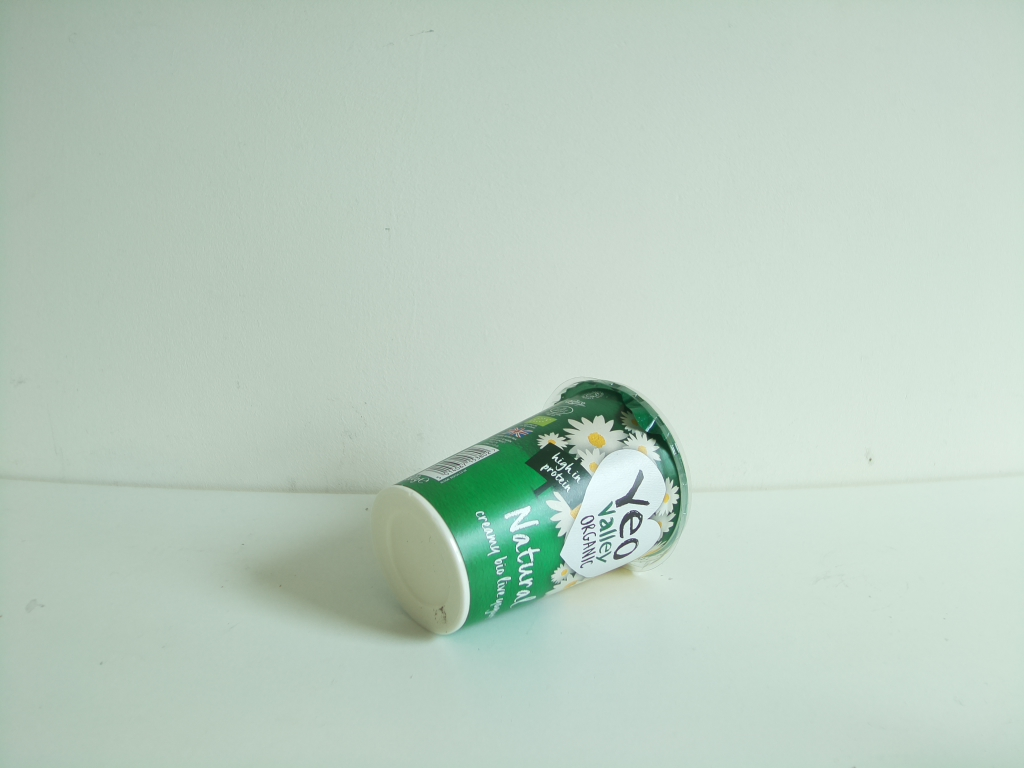yogurt: (359, 373, 698, 640)
